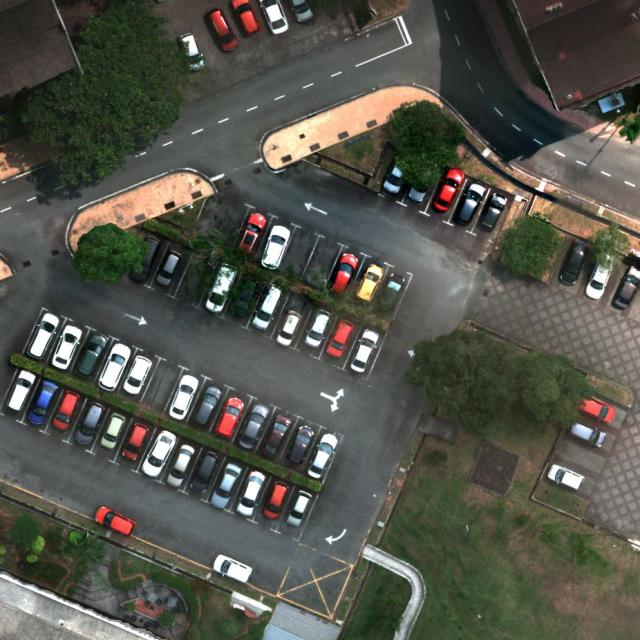Tree: (21, 0, 189, 189), (400, 328, 520, 437), (389, 100, 466, 190), (519, 348, 597, 429), (70, 221, 150, 284), (500, 212, 566, 282), (584, 222, 632, 269), (11, 513, 42, 551), (618, 113, 640, 146), (381, 609, 405, 635), (0, 106, 12, 146)
